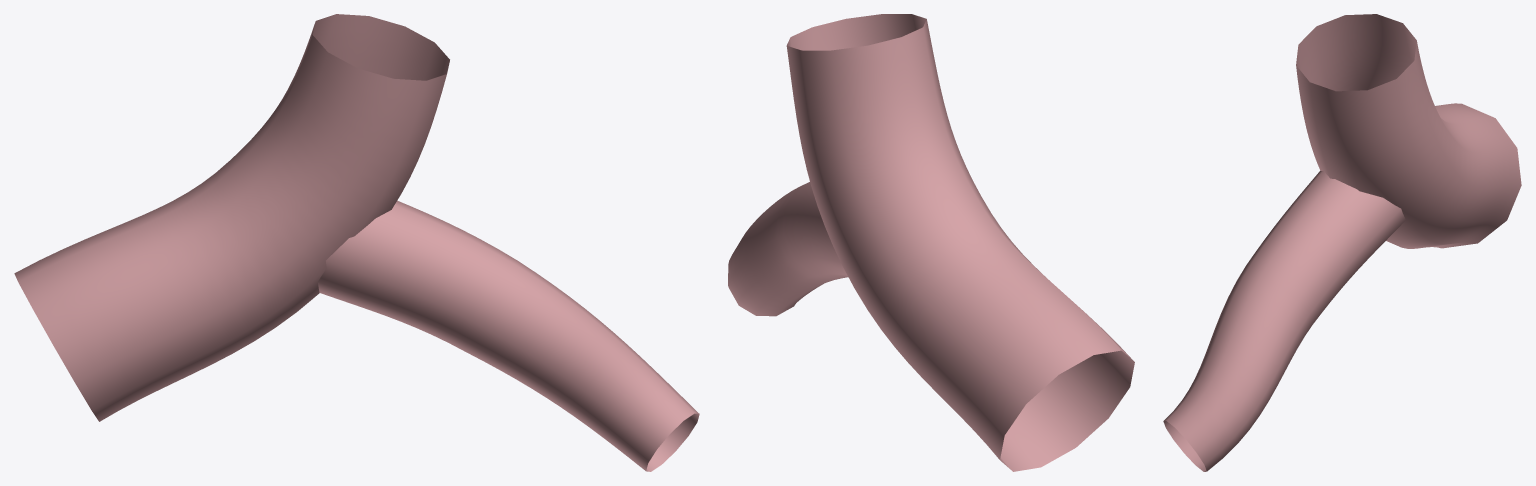
The picture shows the model from 3 angles, left to right: view 1: azimuth 30°, elevation 25°; view 2: azimuth 150°, elevation 25°; view 3: azimuth 270°, elevation 25°; orthographic projection. The views are drawn at different scales.
Parts seen in each view (by area): view 1: ZA_e755123915f4e684; view 2: ZA_e755123915f4e684; view 3: ZA_e755123915f4e684.
Part boxes in pixels (x1,y1,x2,y2): ZA_e755123915f4e684: [14, 14, 699, 471]; ZA_e755123915f4e684: [728, 14, 1134, 471]; ZA_e755123915f4e684: [1163, 14, 1521, 471].
Bounding box in the file's own units: 0.0465 × 0.0348 × 0.0319.
